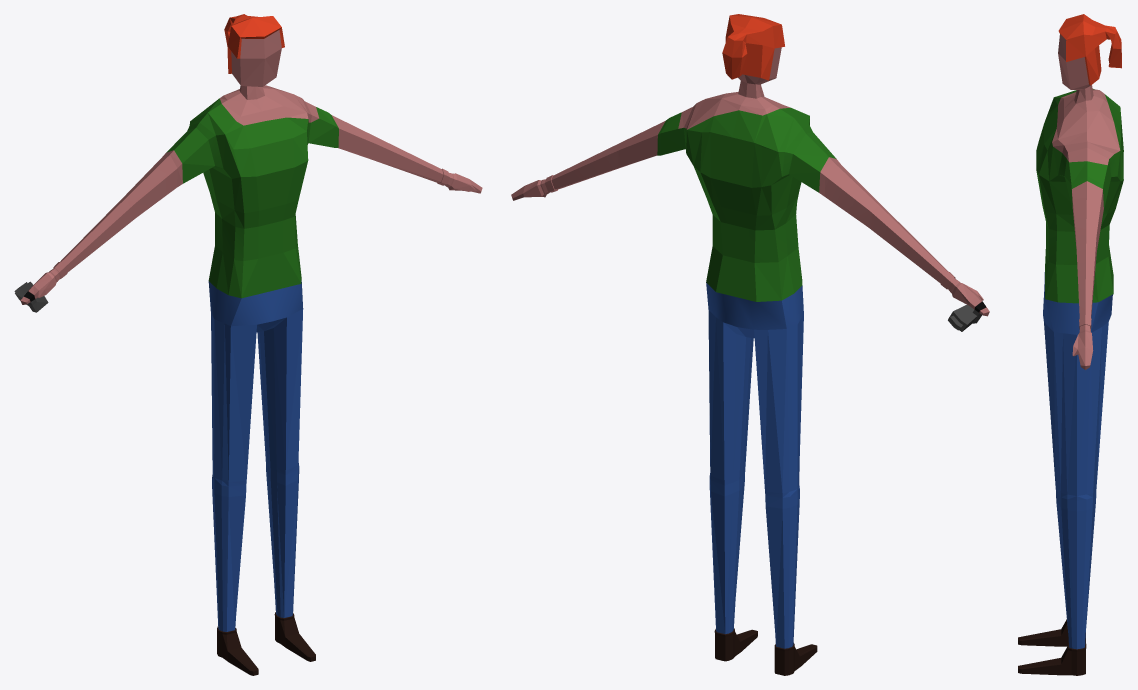
Rendered from Game_Char_Filmmaker.FBX.
The picture shows the model from 3 angles, left to right: view 1: azimuth 30°, elevation 25°; view 2: azimuth 150°, elevation 25°; view 3: azimuth 270°, elevation 25°; orthographic projection. The views are drawn at different scales.
Parts seen in each view (by area): view 1: Box008; view 2: Box008; view 3: Box008.
Part boxes in pixels (x1=…): Box008: x1=14, y1=14, x2=482, y2=675; Box008: x1=511, y1=14, x2=989, y2=675; Box008: x1=1018, y1=14, x2=1123, y2=675.
Size of the model in its own units: 22.03 by 28.55 by 4.3.
